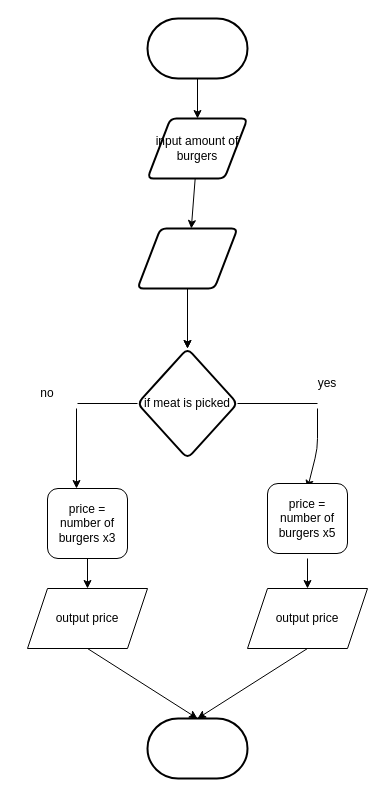
This 385x796 diagram has some shape labels left out. Here are the shapes that lost their labels. From the top down, the centre of each, then its label:
At [197,48]: "Start".
At [187,258]: "input veggie or meat".
At [197,748]: "Stop".
